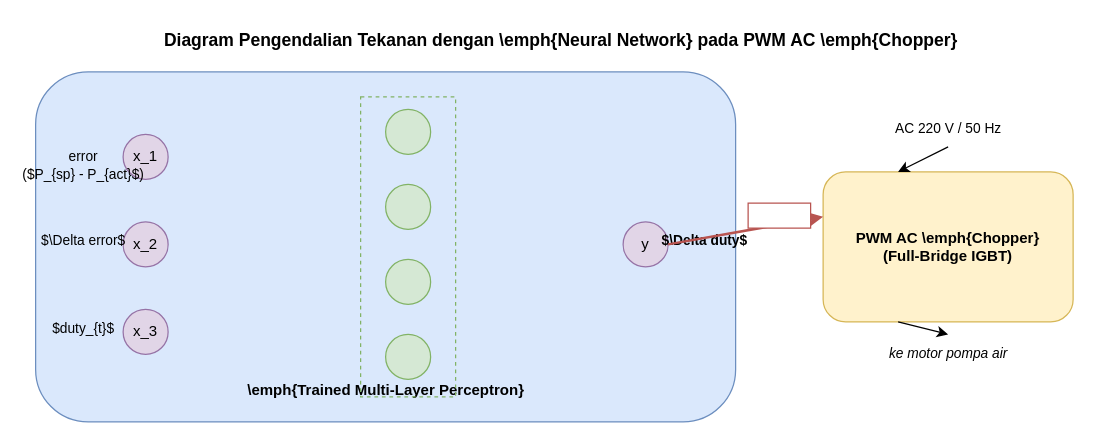
This 1095x444 diagram has some shape labels left out. The shapes that lost their labels are listed below. From the top down, each one's box as (x1, y1, x2, y2) in pixels, then its label:
(747, 202, 811, 228): $duty_{t+1}$
(359, 96, 456, 397): \emph{Hidden Layer} (4 neuron)
